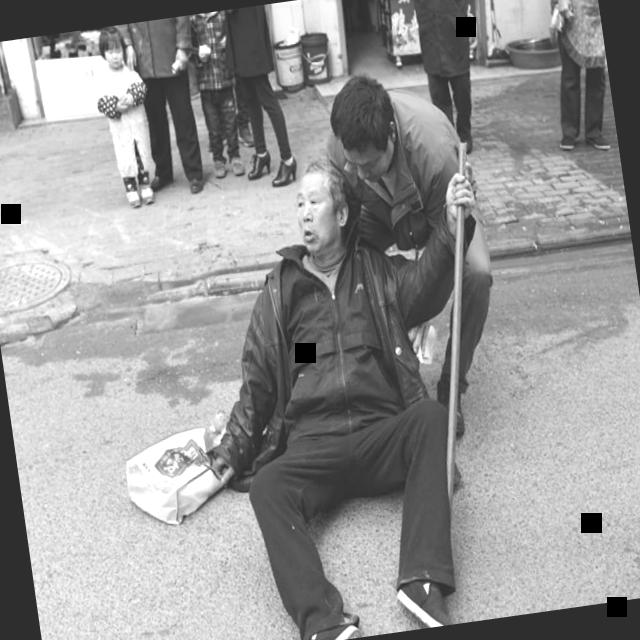Fall-Detected: (159, 134, 514, 640)
